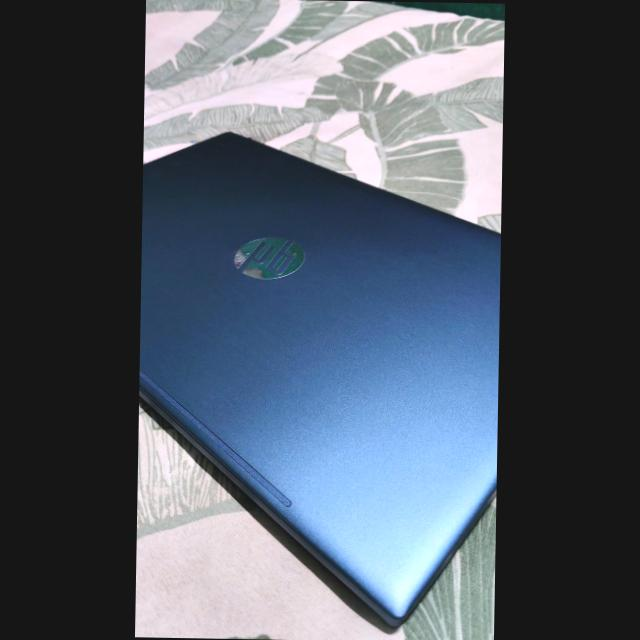laptop: (135, 121, 495, 613)
